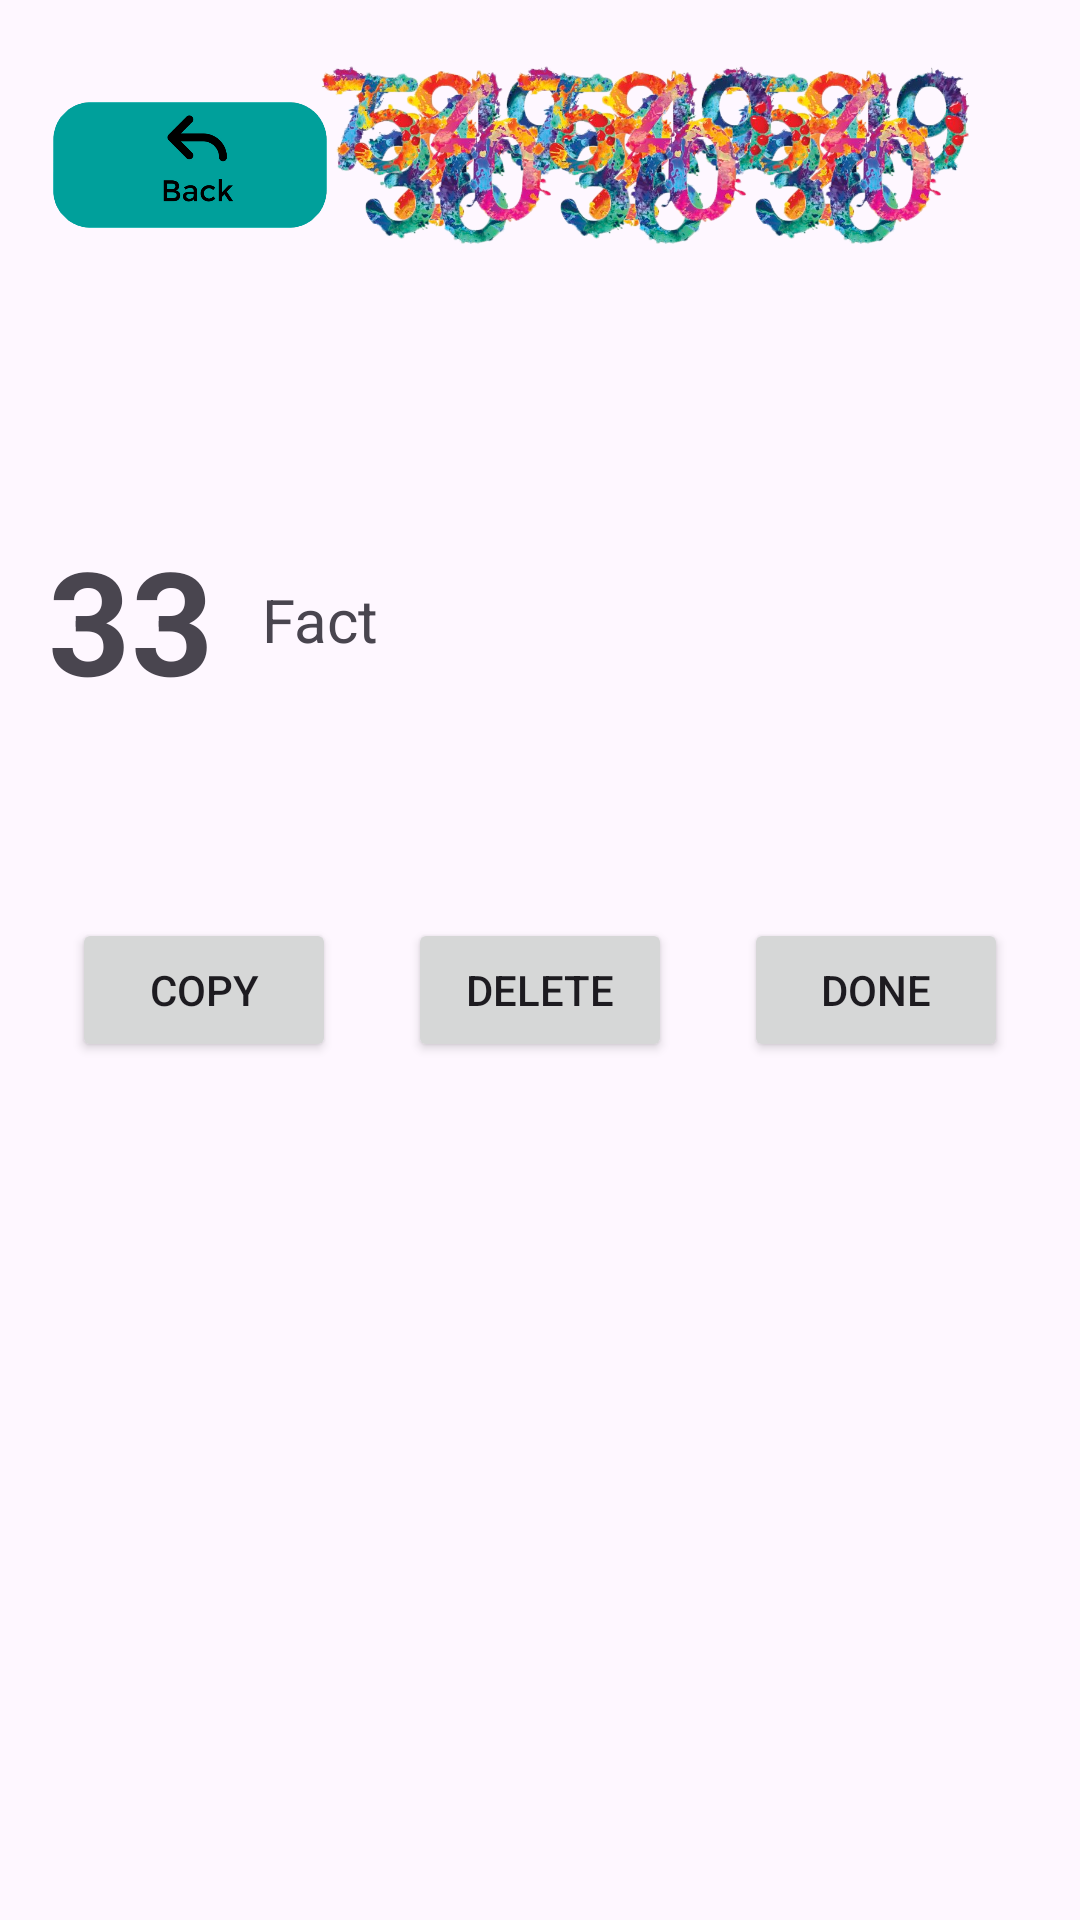

Screen size 1080x1920. Icon name, then its center in pixels as (x=x, y=y):
numbers: (x=462, y=155), (x=657, y=155), (x=820, y=155)
